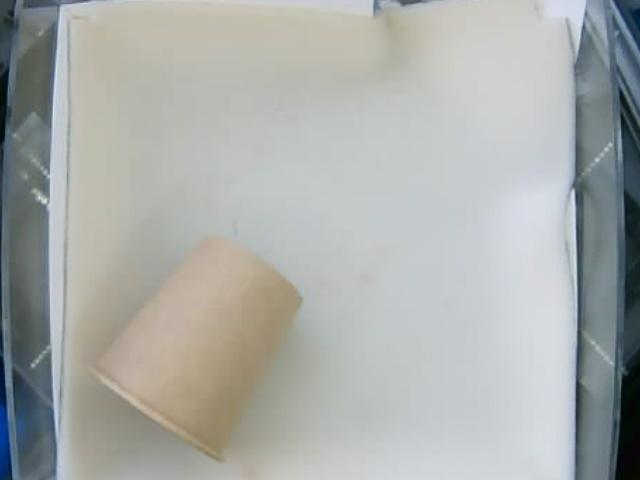Cup: (93, 237, 305, 462)
